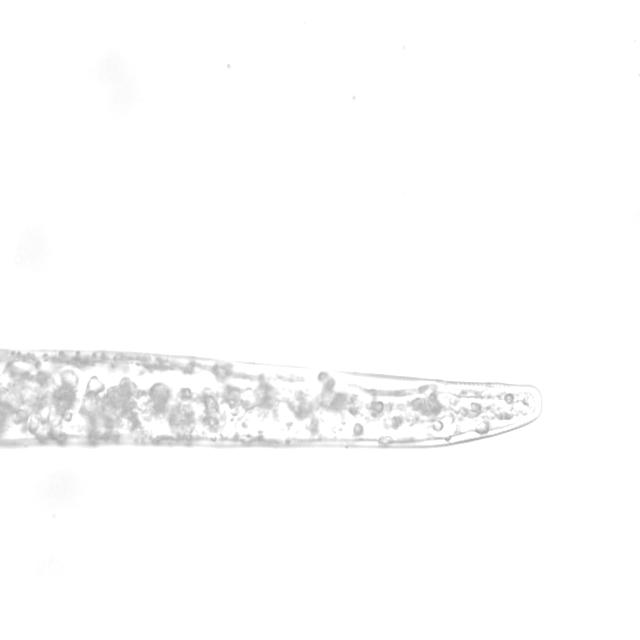Pratylenchus: (0, 332, 544, 448)
